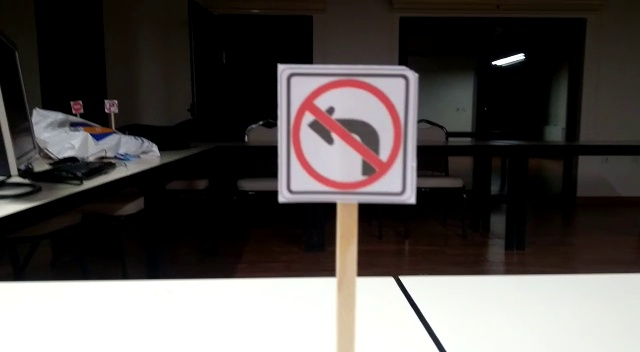sola_donulmez: (289, 83, 401, 190)
